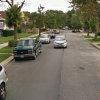Car: (51, 30, 68, 55)
